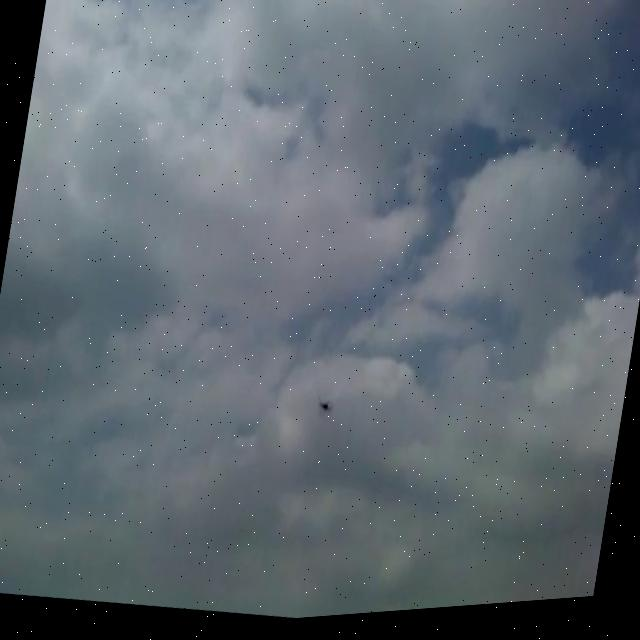drone: (315, 394, 337, 421)
